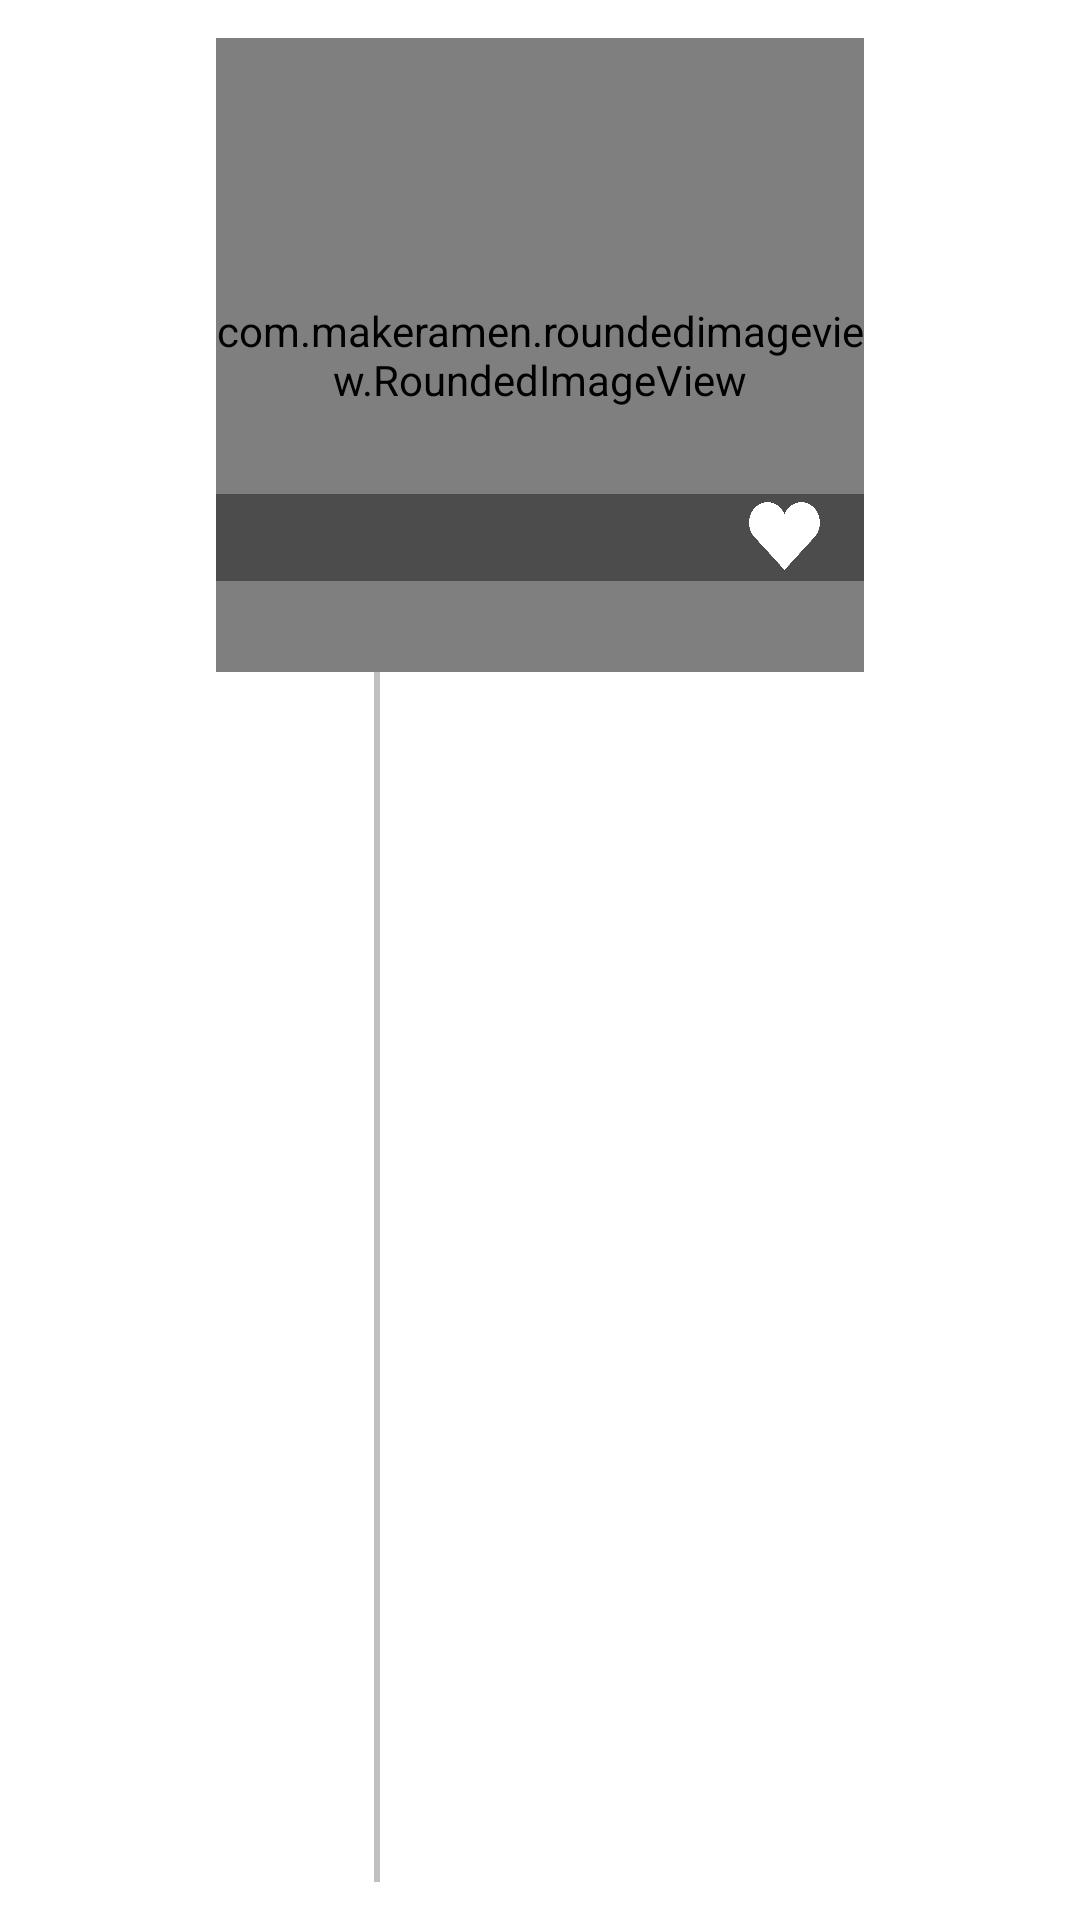

Locate icon controls on the screen. Image size 1080*1920, boxes as rect(x1, y1, x2, y2).
heart: rect(702, 494, 864, 581)
